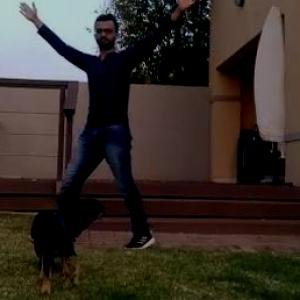takeoff: (16, 0, 199, 257)
